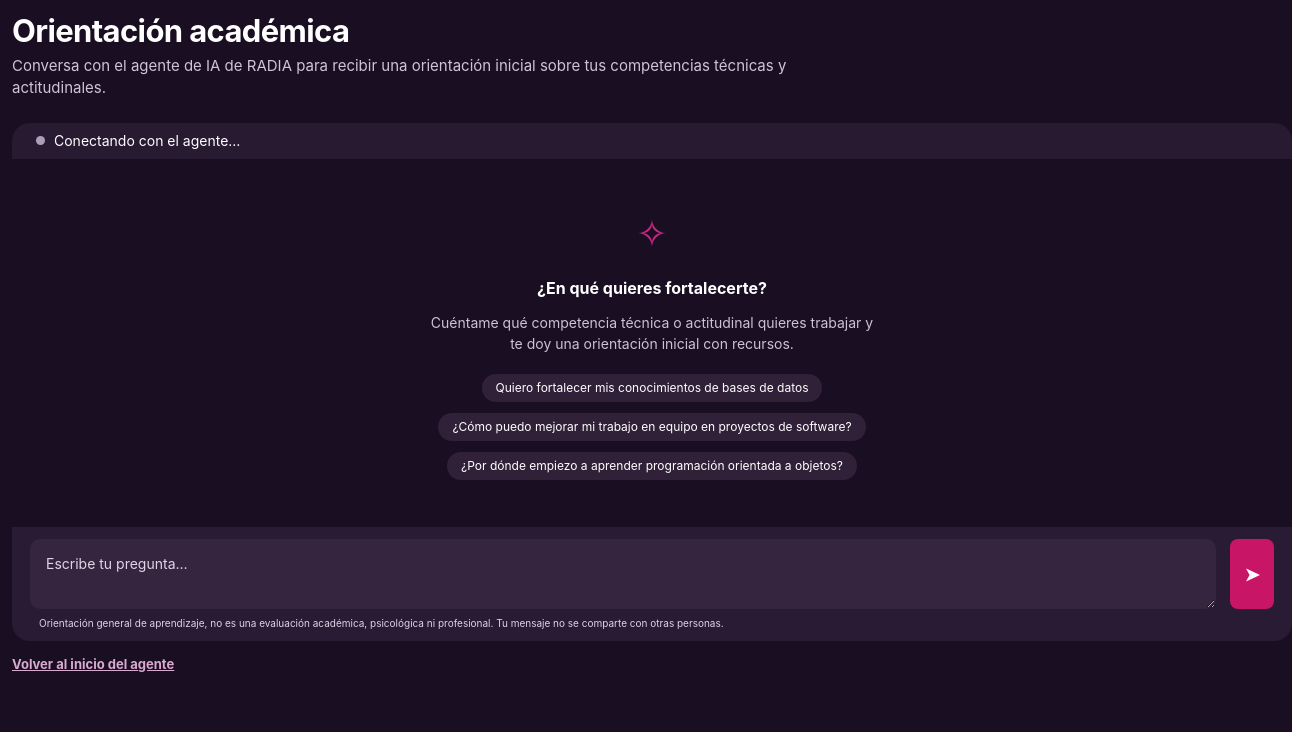
Test: interfaz del chat orientativo › envía el mensaje y presenta la orientación del backend
The width and height of the screenshot is (1292, 732).
Type "Programación" into the text box named "Mensaje para el agente". click: (623,574)
box: [30,539,1216,609]
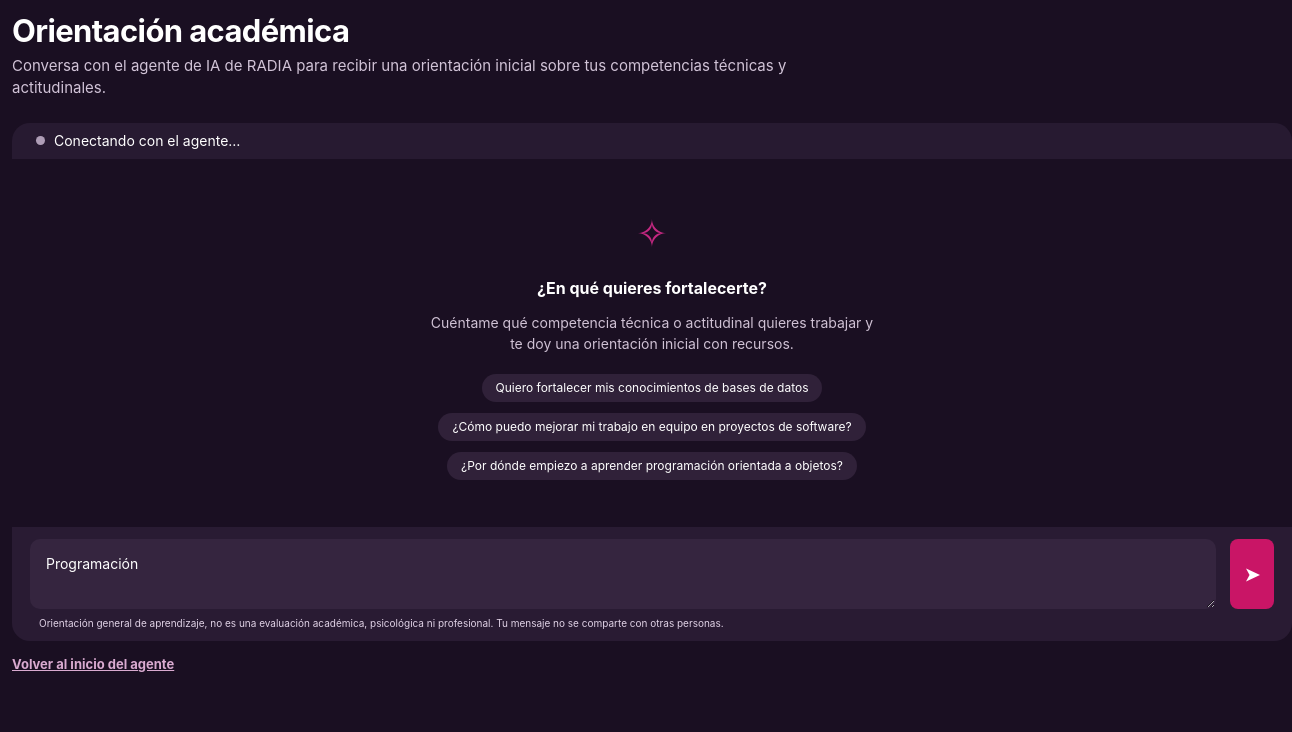
Click the button named "Enviar mensaje". click: (1252,574)
box: [1230,539,1274,609]
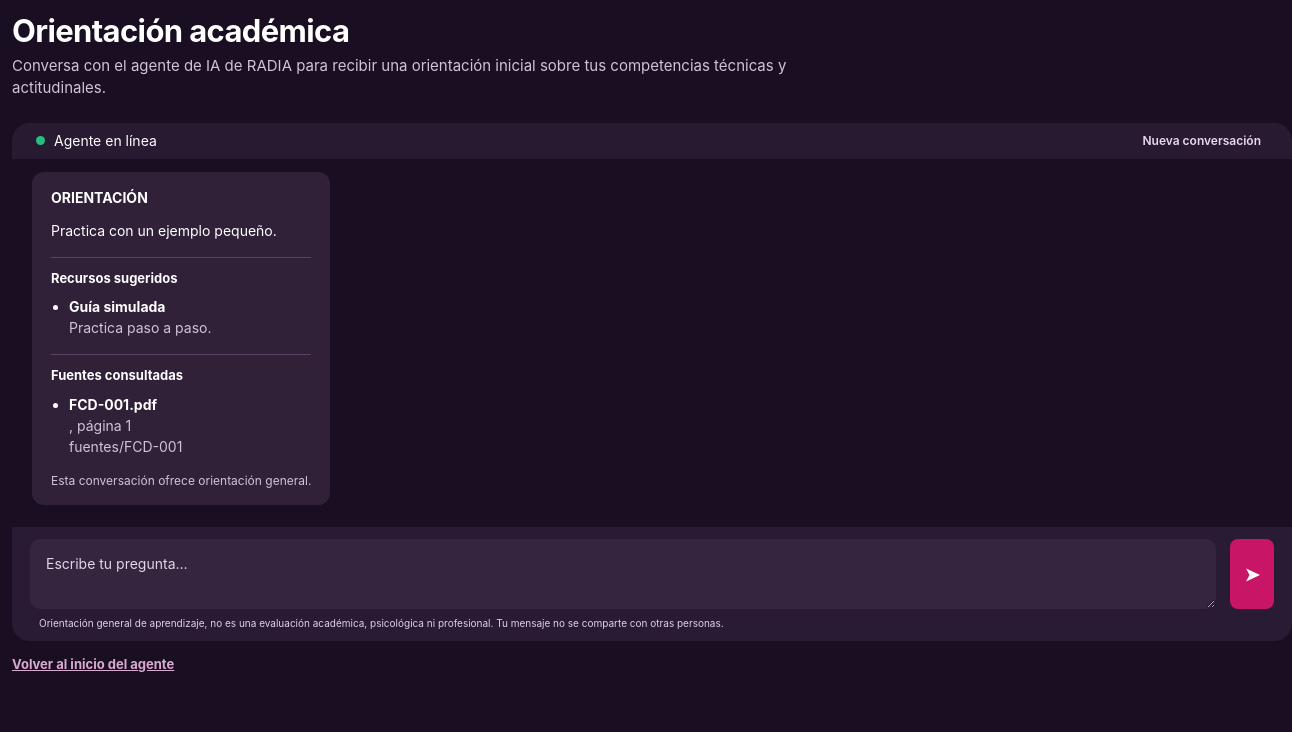
Check: the text "Practica con un ejemplo pequeño." is shown, box [51,220,311,241]
Check: the text "Guía simulada" is shown, box [69,298,166,315]
Check: the heading "Fuentes consultadas" is shown, box [51,367,183,383]
